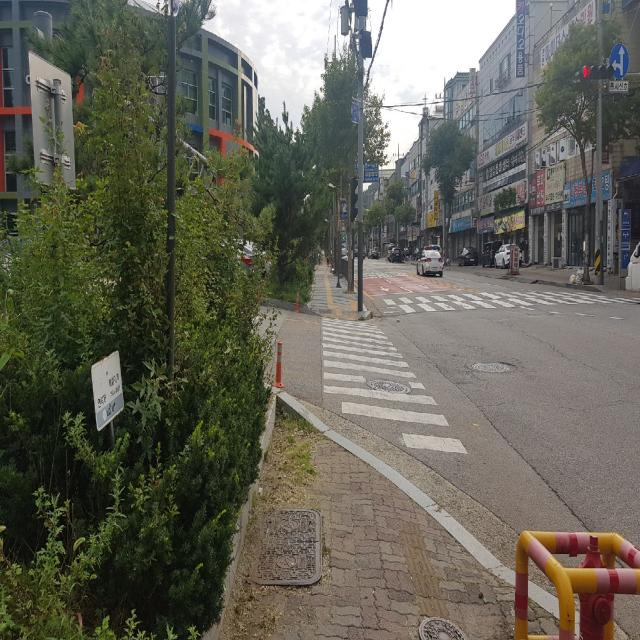횡단보도: (322, 316, 469, 456), (382, 293, 640, 312)
